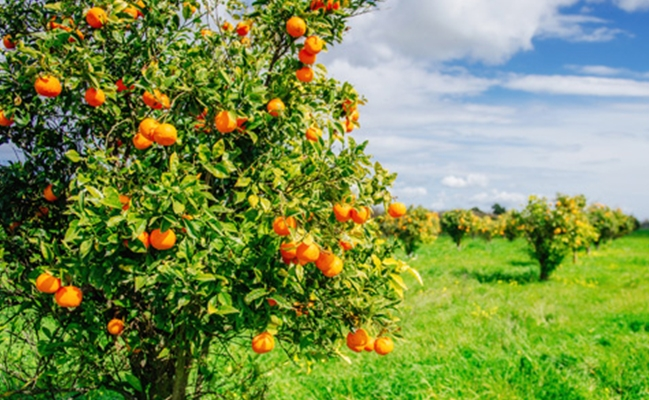portakal: (241, 316, 279, 370), (148, 211, 178, 267), (28, 62, 60, 114), (77, 1, 118, 37), (109, 62, 143, 104), (376, 323, 404, 370), (379, 188, 409, 230), (35, 265, 59, 312), (261, 87, 288, 127), (271, 205, 301, 238), (77, 80, 106, 114), (277, 10, 308, 41), (306, 119, 330, 153), (215, 102, 235, 141), (101, 308, 126, 337), (234, 19, 252, 47)
